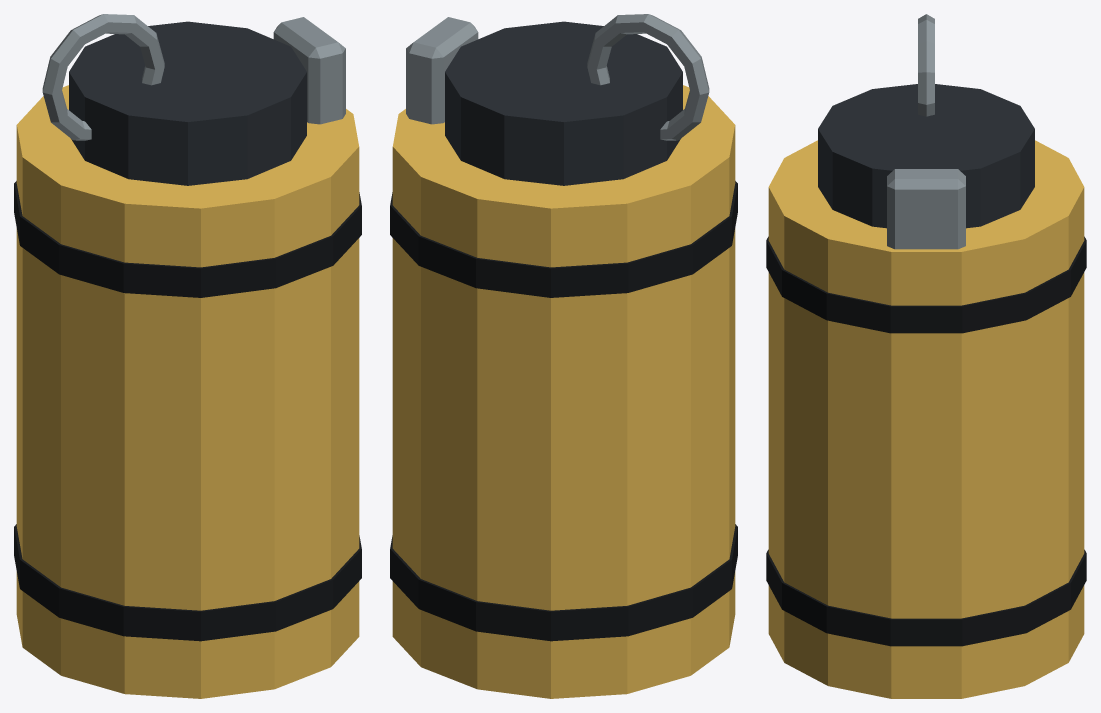
File: Consumable_Stun.fbx
3 views of the same model, side by side, from view 1: azimuth 30°, elevation 25°; view 2: azimuth 150°, elevation 25°; view 3: azimuth 270°, elevation 25° (orthographic). The views are drawn at different scales.
Parts seen in each view (by area): view 1: Body.001, Top.001, Stripe.002, Stripe.003, Ring.001, Lever.001; view 2: Body.001, Top.001, Stripe.002, Stripe.003, Ring.001, Lever.001; view 3: Body.001, Top.001, Stripe.003, Stripe.002, Lever.001, Ring.001.
Part boxes in pixels (left/top/right/bottom): Body.001: left=16, top=85, right=359, bottom=698; Top.001: left=69, top=21, right=306, bottom=185; Stripe.002: left=14, top=524, right=361, bottom=641; Stripe.003: left=14, top=181, right=361, bottom=297; Ring.001: left=42, top=14, right=164, bottom=140; Lever.001: left=273, top=17, right=345, bottom=124; Body.001: left=392, top=85, right=735, bottom=698; Top.001: left=445, top=21, right=682, bottom=185; Stripe.002: left=390, top=524, right=737, bottom=641; Stripe.003: left=390, top=181, right=737, bottom=297; Ring.001: left=587, top=14, right=709, bottom=140; Lever.001: left=406, top=17, right=478, bottom=124; Body.001: left=768, top=140, right=1084, bottom=698; Top.001: left=818, top=84, right=1034, bottom=228; Stripe.003: left=766, top=236, right=1086, bottom=333; Stripe.002: left=766, top=549, right=1086, bottom=646; Lever.001: left=887, top=169, right=965, bottom=249; Ring.001: left=918, top=14, right=934, bottom=116.
Bounding box in the file's own units: 0.0634 × 0.129 × 0.065.
